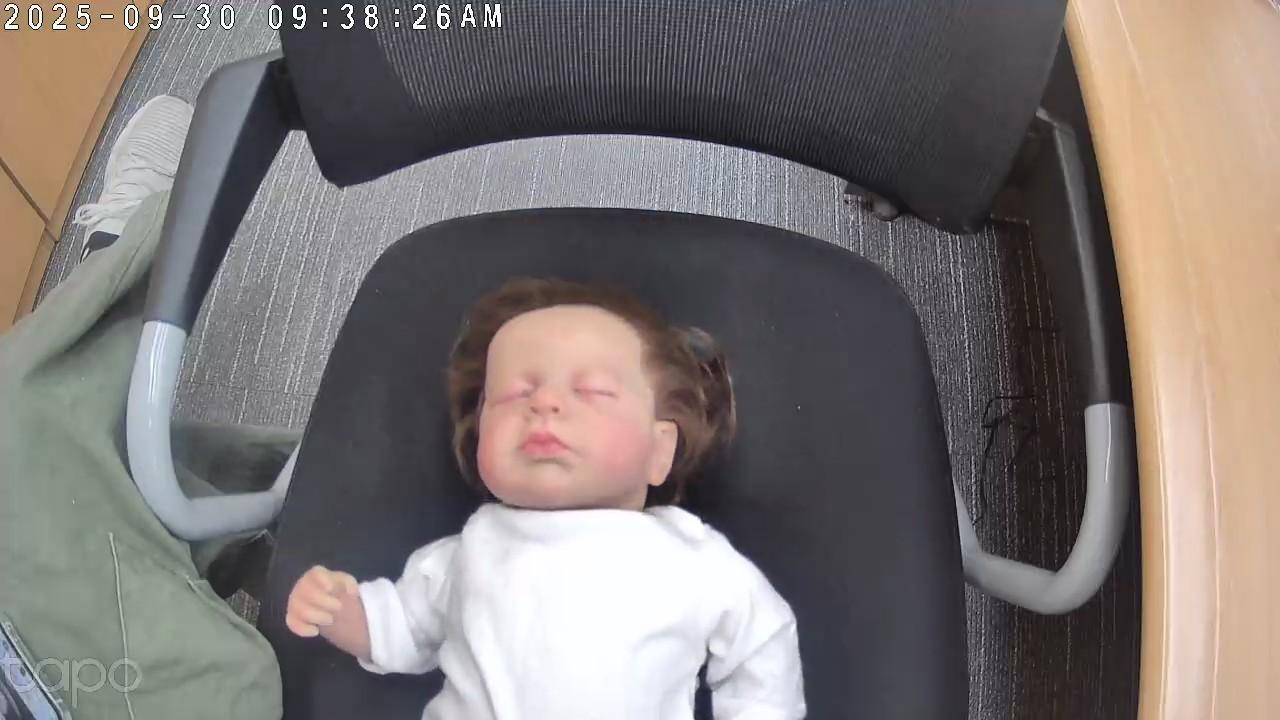hand: (284, 559, 361, 642)
